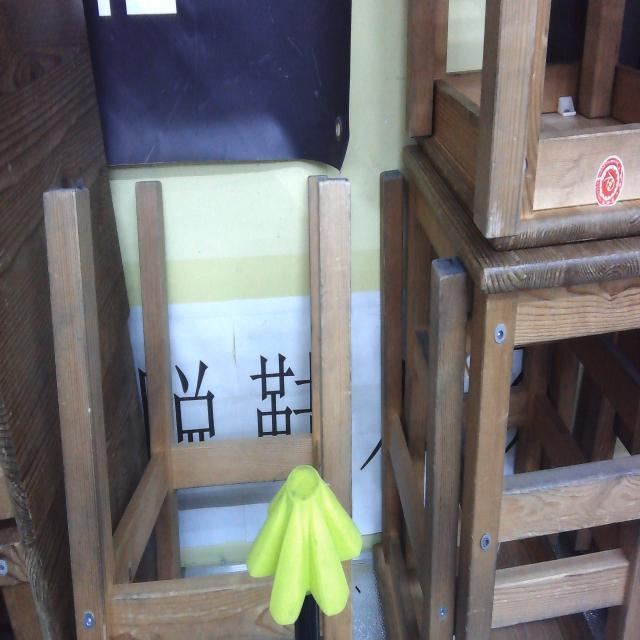Yellow-Stake-Head: (246, 465, 363, 626)
